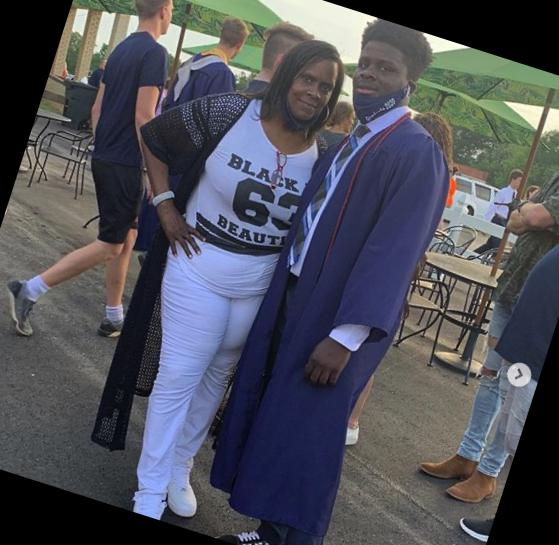mask_weared_incorrect: (341, 49, 418, 124), (279, 62, 337, 136)
without_mask: (165, 3, 176, 36)
